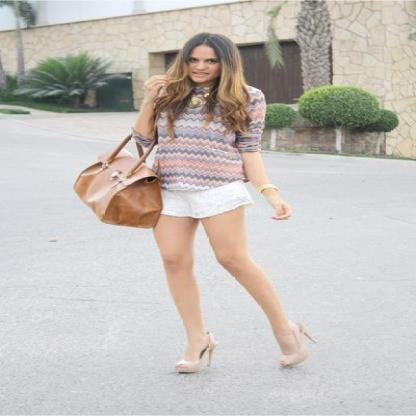bag: (74, 146, 168, 228)
shirt: (149, 92, 266, 187)
shoe: (173, 329, 315, 378)
shorts: (161, 169, 249, 217)
